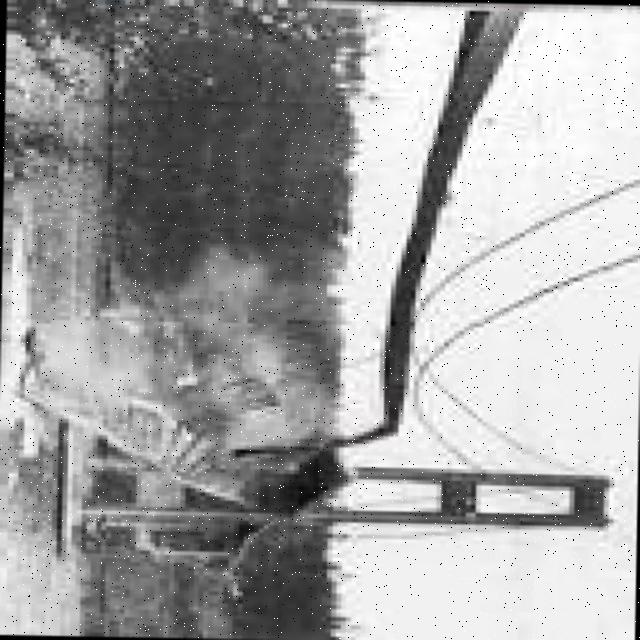bridge collapse: (0, 0, 532, 564)
